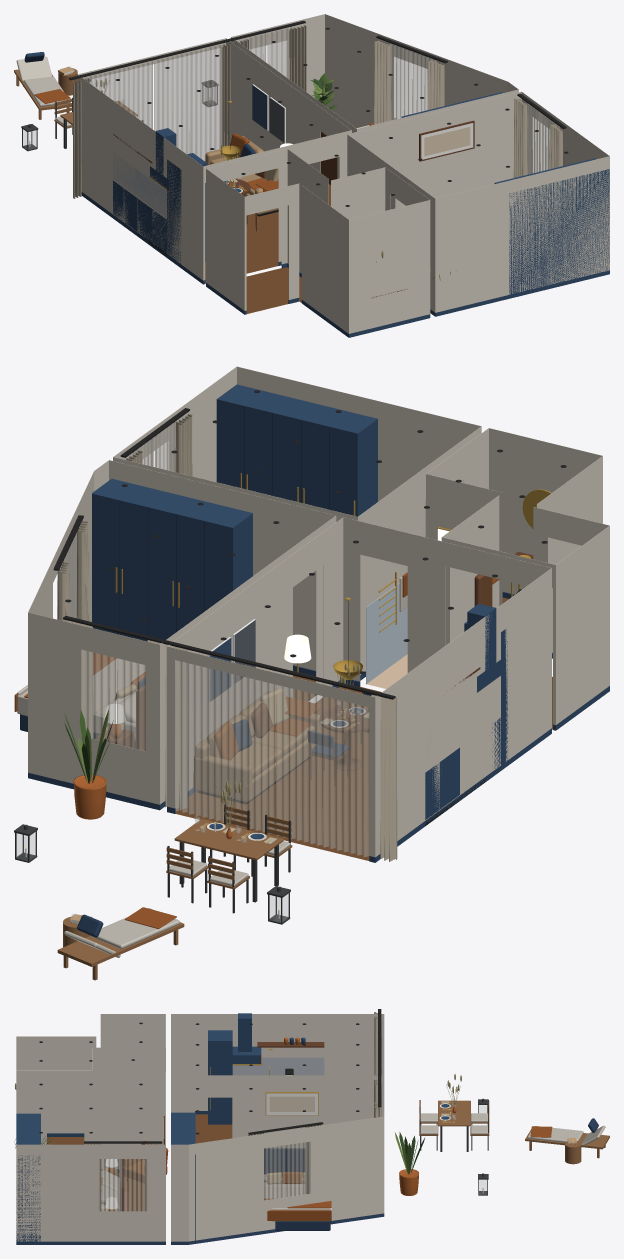
Rendered from unit-0.B-lisboa.glb.
3 views of the same model, one above another, from view 1: azimuth 30°, elevation 25°; view 2: azimuth 150°, elevation 25°; view 3: azimuth 270°, elevation 25° (orthographic). The views are drawn at different scales.
Parts seen in each view (by area): view 1: int-wall, int-sheer, int-joineryTall, int-curtain, int-joinery, int-floor, int-hallFloor, int-matteBlack, int-splash, int-outCushion, int-teak, int-wood (+7 smaller); view 2: int-wall, int-joineryTall, int-sheer, int-floor, int-curtain, int-teak, int-joinery, int-sofa, int-bathWall, int-outdoor, int-matteBlack, int-outCushion (+11 smaller); view 3: int-wall, int-sheer, int-joineryTall, int-joinery, int-teak, int-headboard, int-splash, int-outCushion, int-floor, int-curtain, int-bedThrow, int-matteBlack (+9 smaller).
Part boxes in pixels (box(x1,y1,x2,y2)): int-wall: box(77, 14, 609, 333); int-sheer: box(84, 27, 559, 174); int-joineryTall: box(167, 92, 609, 298); int-curtain: box(73, 25, 563, 198); int-joinery: box(81, 128, 609, 337); int-floor: box(205, 184, 330, 283); int-hallFloor: box(246, 267, 301, 313); int-matteBlack: box(69, 20, 566, 256); int-splash: box(113, 153, 166, 217); int-outCushion: box(16, 56, 72, 126); int-teak: box(14, 68, 143, 128); int-wood: box(113, 120, 474, 298); int-wall: box(28, 366, 609, 857); int-joineryTall: box(92, 384, 508, 770); int-sheer: box(57, 420, 369, 857); int-floor: box(175, 671, 381, 860); int-curtain: box(57, 414, 397, 861); int-teak: box(57, 806, 292, 980); int-joinery: box(28, 591, 609, 862); int-sofa: box(193, 691, 321, 801); int-bathWall: box(366, 583, 407, 684); int-outdoor: box(14, 804, 290, 924); int-matteBlack: box(53, 408, 497, 826); int-outCushion: box(64, 841, 290, 957); int-wall: box(16, 1014, 384, 1241); int-sheer: box(98, 1020, 381, 1211); int-joineryTall: box(16, 1030, 232, 1244); int-joinery: box(16, 1013, 384, 1244); int-teak: box(419, 1100, 609, 1164); int-headboard: box(120, 1148, 330, 1230); int-splash: box(232, 1057, 324, 1075); int-outCushion: box(420, 1113, 605, 1147); int-floor: box(118, 1114, 232, 1210); int-curtain: box(85, 1012, 379, 1211); int-bedThrow: box(264, 1199, 331, 1220); int-matteBlack: box(84, 1009, 381, 1143).
Size of the model in its own units: 7.77 by 2.82 by 14.48.
